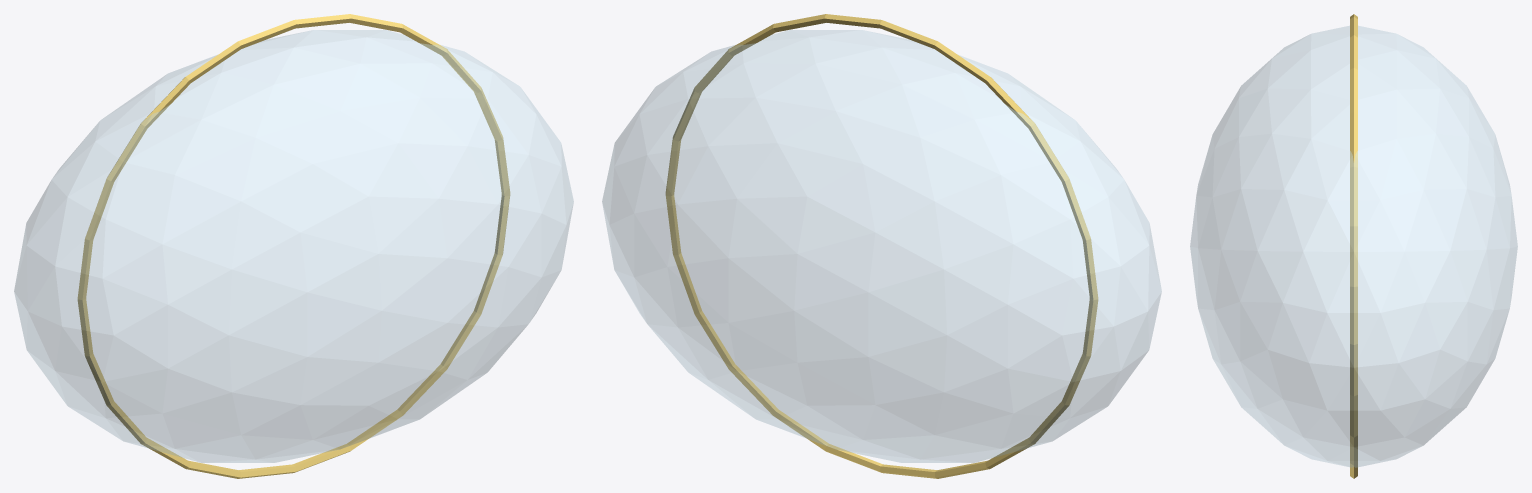
The model's file is fog_volume_proxy.glb.
3 views of the same model, side by side, from view 1: azimuth 30°, elevation 25°; view 2: azimuth 150°, elevation 25°; view 3: azimuth 270°, elevation 25° (orthographic). The views are drawn at different scales.
Parts seen in each view (by area): view 1: fog_volume_proxy, fog_boundary; view 2: fog_volume_proxy, fog_boundary; view 3: fog_volume_proxy, fog_boundary.
Part boxes in pixels (bbox=[...]): fog_volume_proxy: bbox=[14, 30, 573, 462]; fog_boundary: bbox=[77, 14, 510, 478]; fog_volume_proxy: bbox=[602, 30, 1161, 462]; fog_boundary: bbox=[665, 14, 1098, 478]; fog_volume_proxy: bbox=[1190, 26, 1517, 467]; fog_boundary: bbox=[1350, 14, 1357, 478].
Size of the model in its own units: 2.38 by 1.94 by 1.36.
